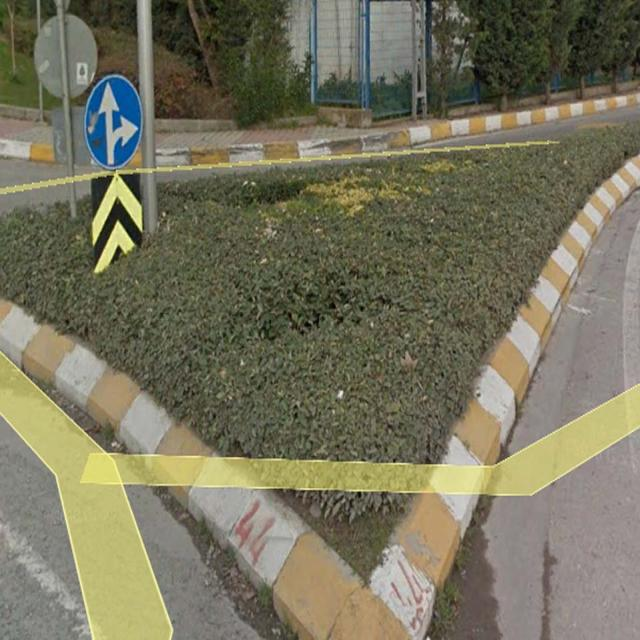ilerisag: (83, 74, 143, 170)
